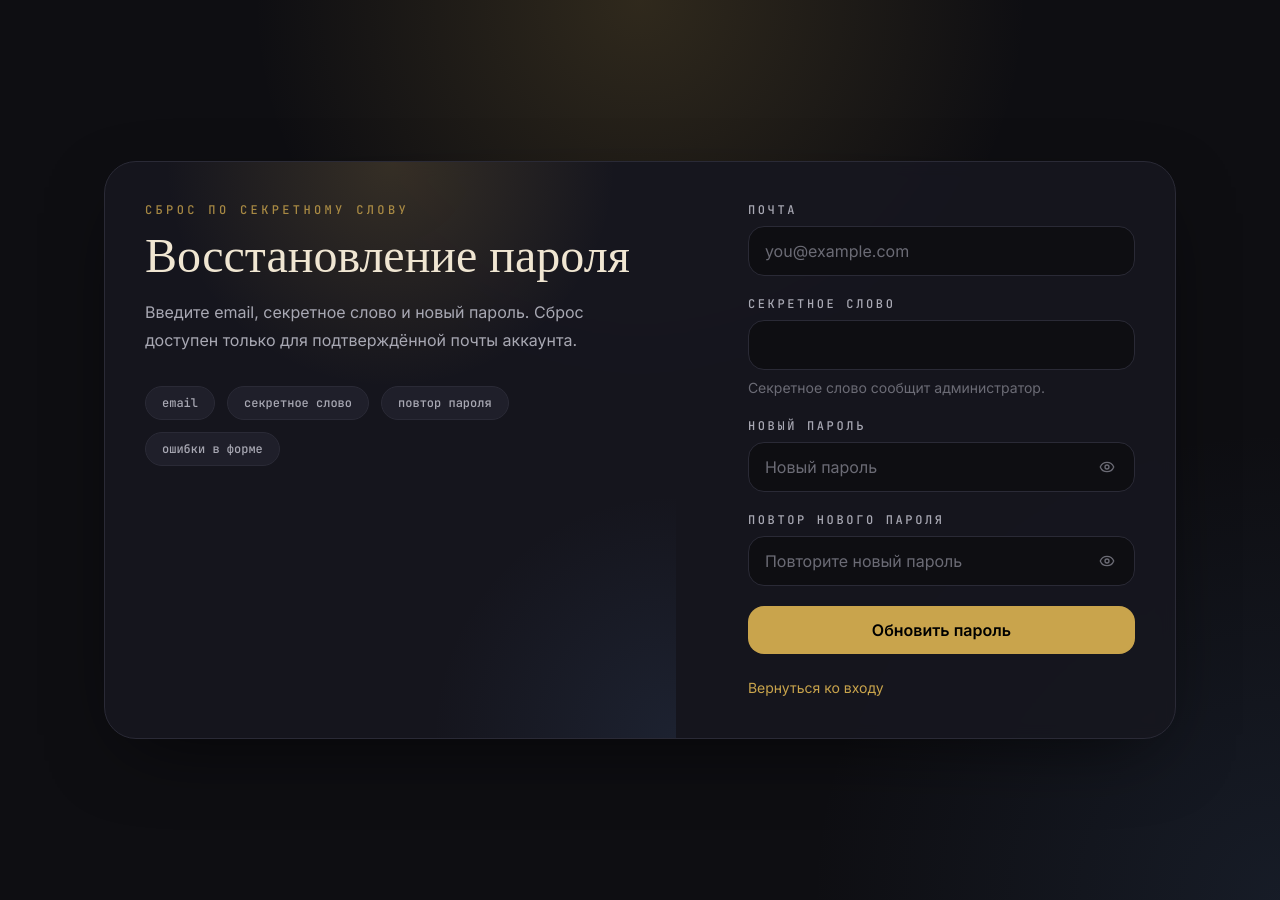
Test: password reset page › submits password reset with email and shows success message
The image size is (1280, 900).
Type "ironfist@example.com" into the field labelled "Почта".
click(941, 251); type("ironfist@example.com")  # box [748, 226, 1135, 276]
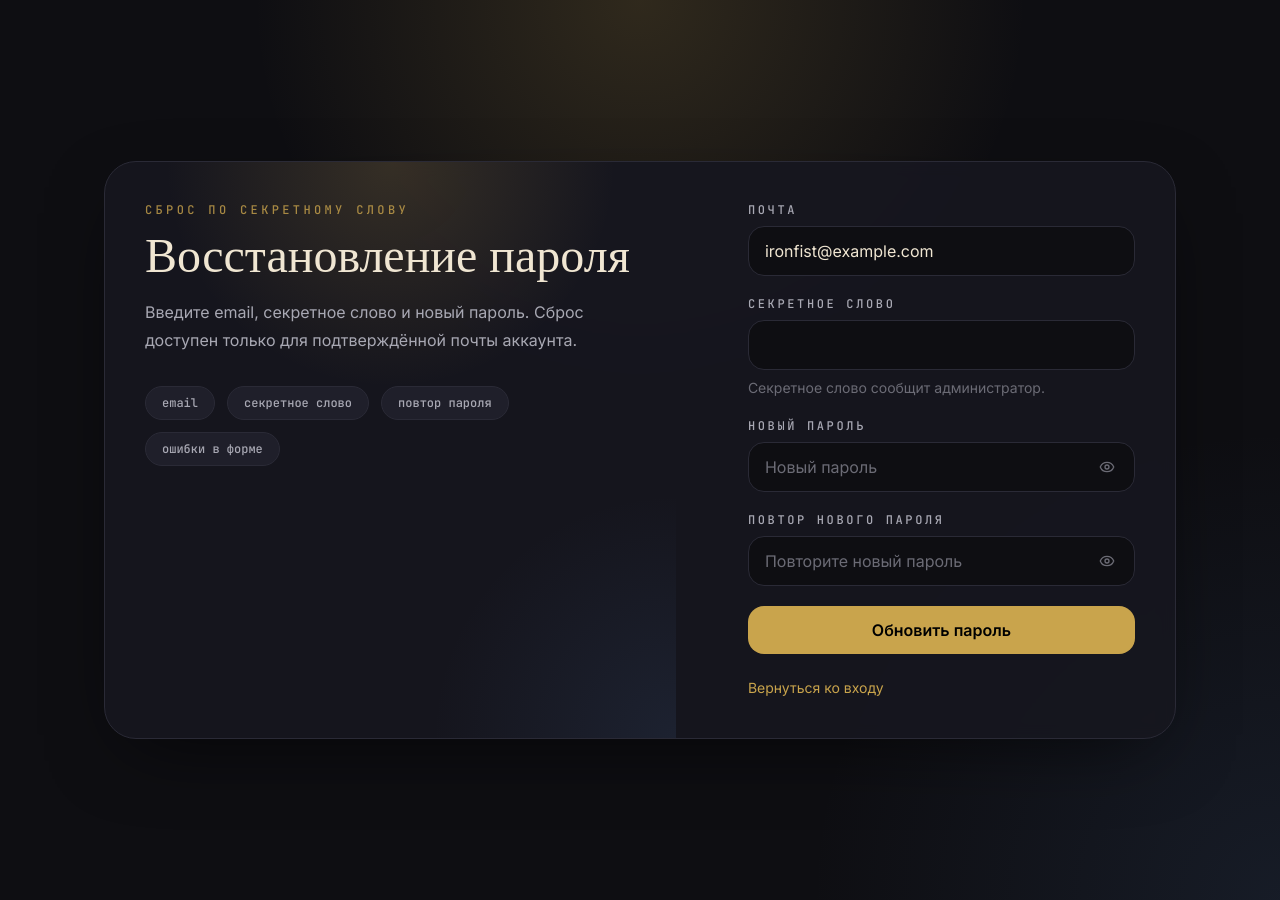
Type "lovecraft" into the field labelled "Секретное слово".
click(941, 345); type("lovecraft")  # box [748, 320, 1135, 370]
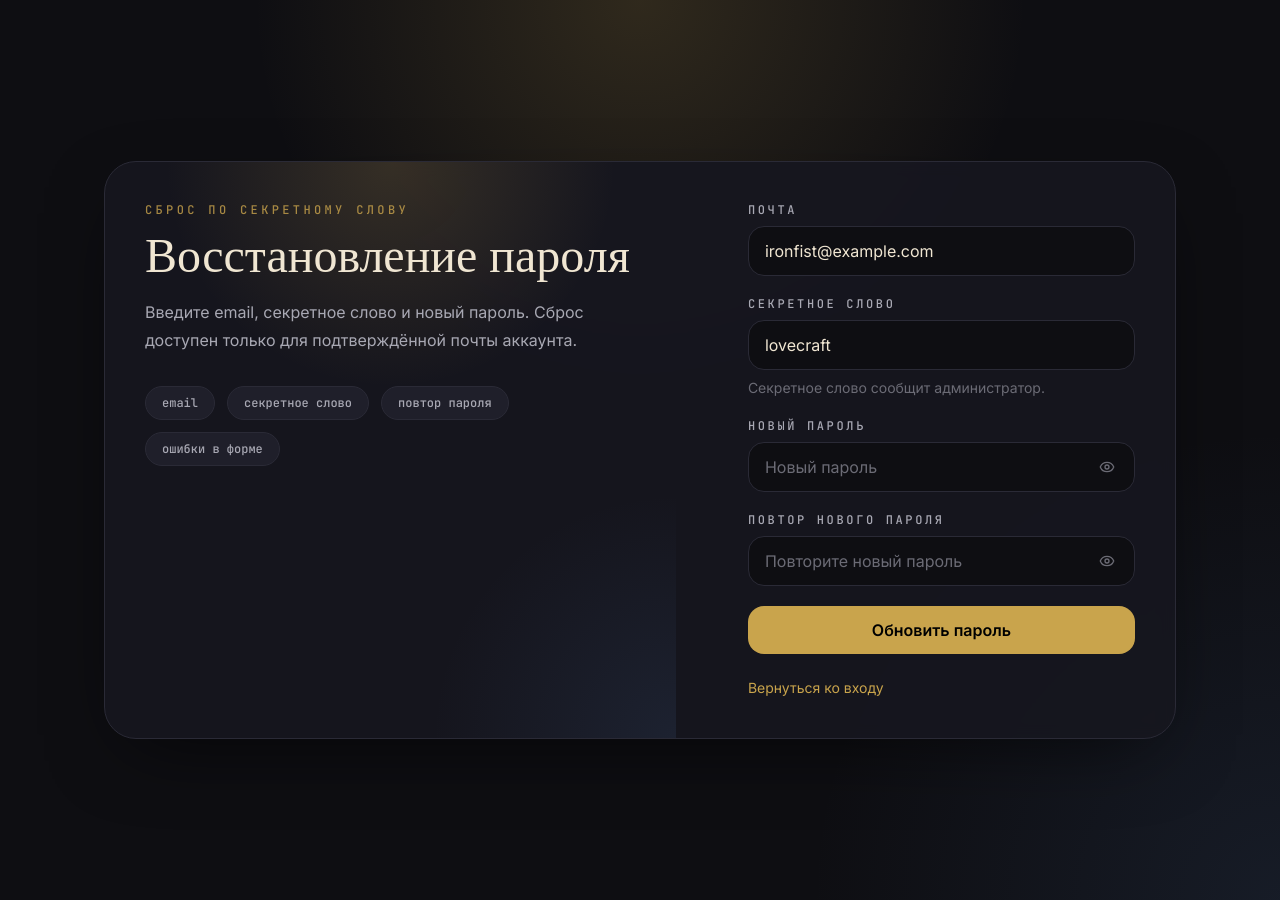
Type "NewStrongPassword123!" into the password field labelled "Новый пароль".
click(941, 467); type("NewStrongPassword123!")  # box [748, 442, 1135, 492]
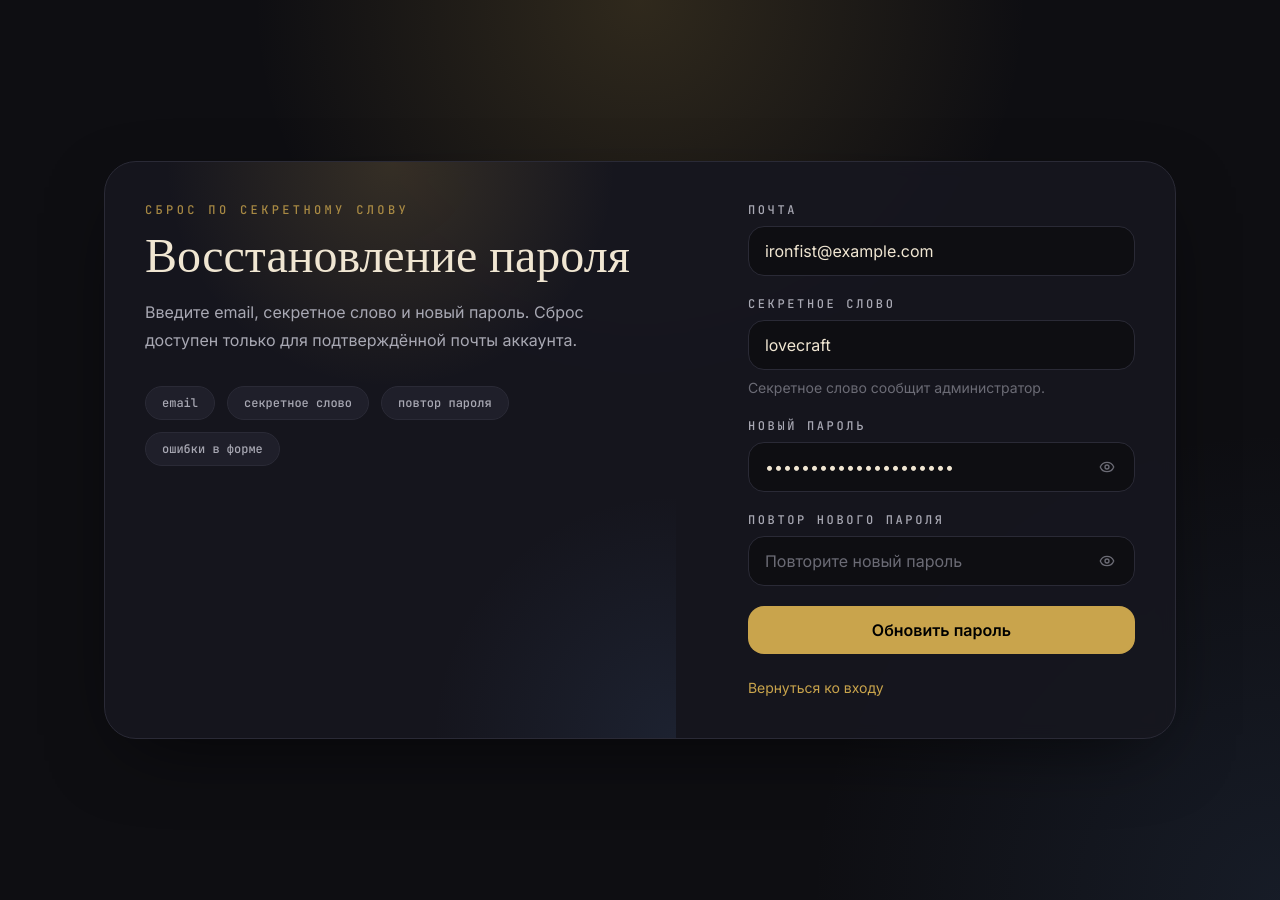
Type "NewStrongPassword123!" into the password field labelled "Повтор нового пароля".
click(941, 561); type("NewStrongPassword123!")  # box [748, 536, 1135, 586]
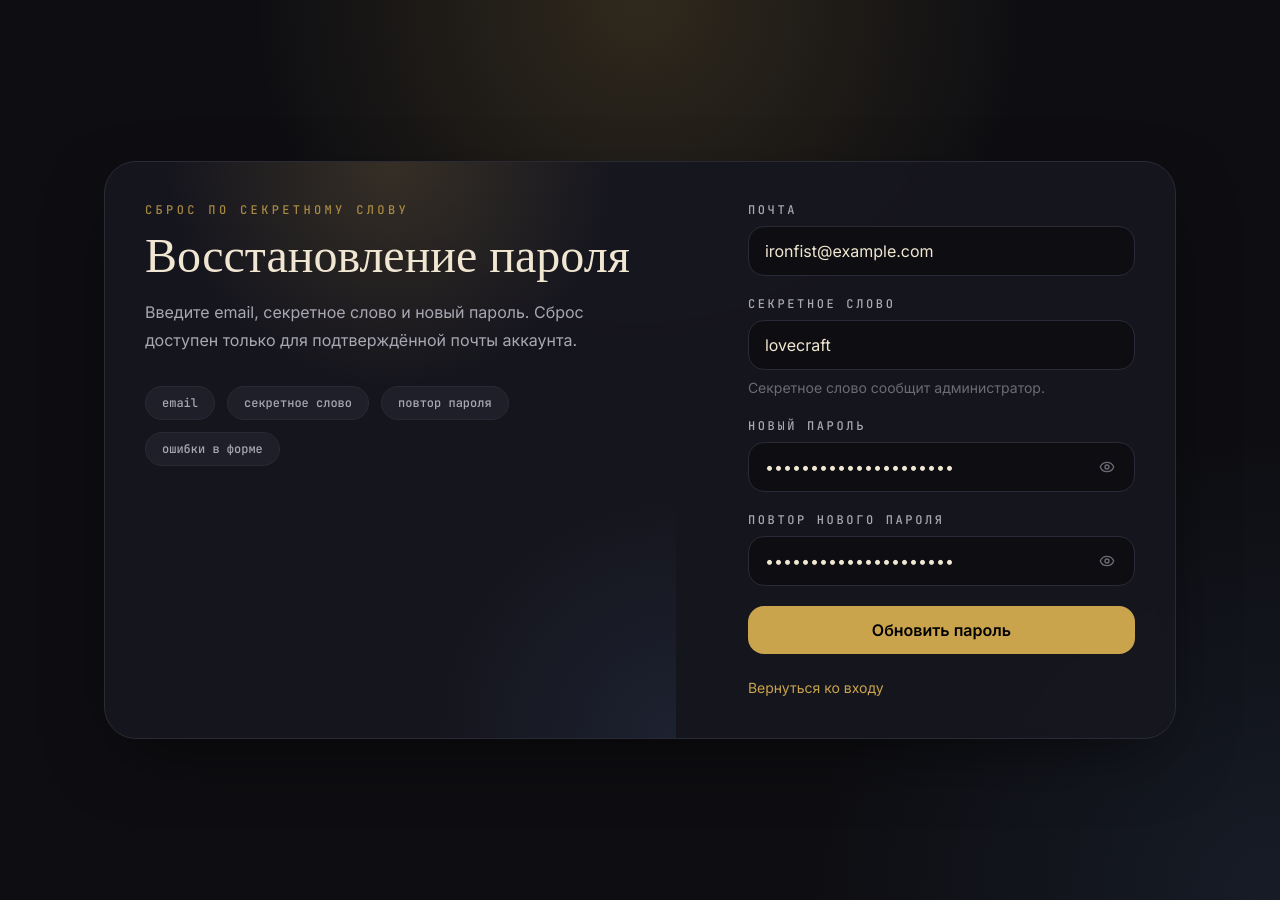
Click the button "Обновить пароль".
click(941, 630)  # box [748, 606, 1135, 654]
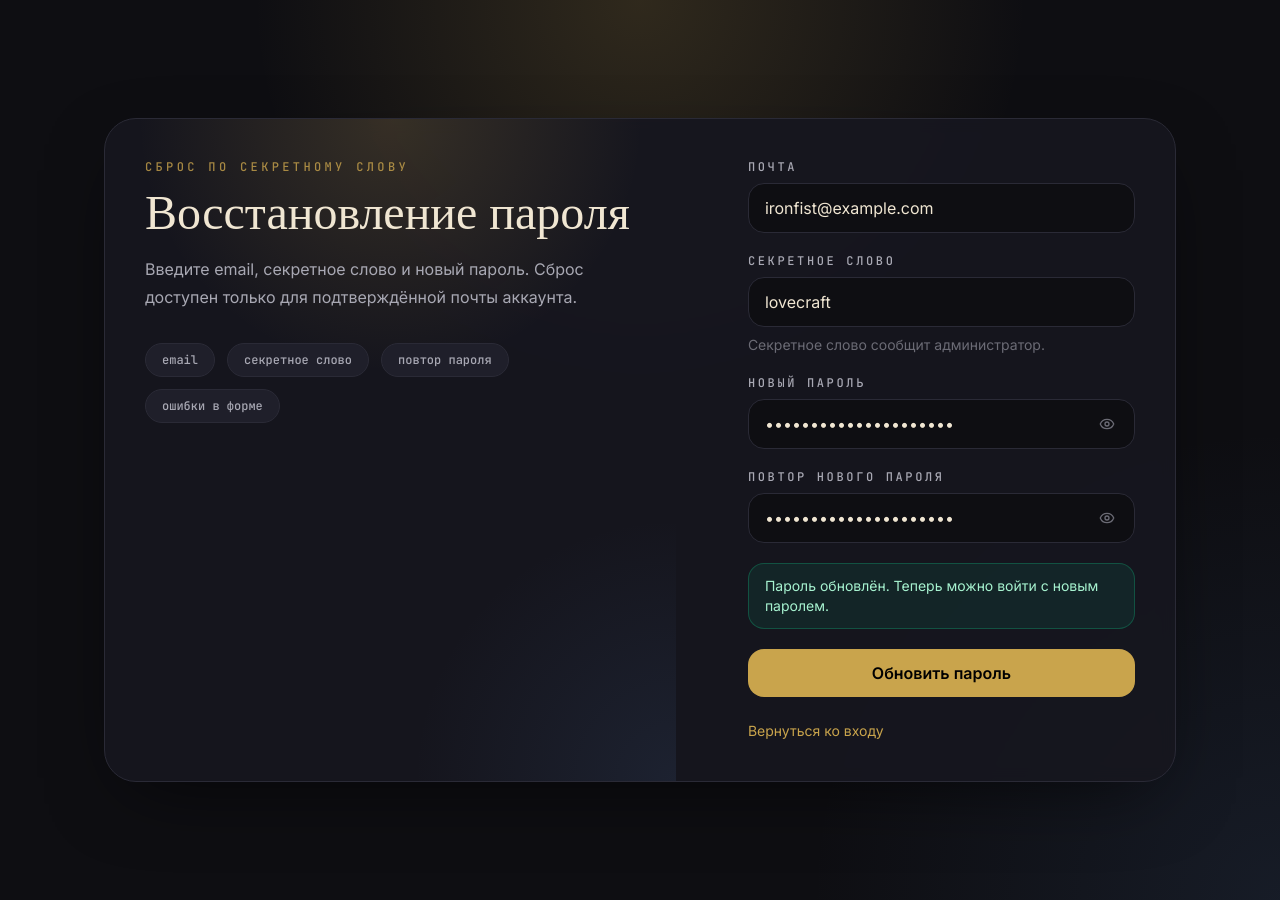
Check: the text "Пароль обновлён. Теперь можно войти с новым паролем." is shown, box [748, 563, 1135, 629]
